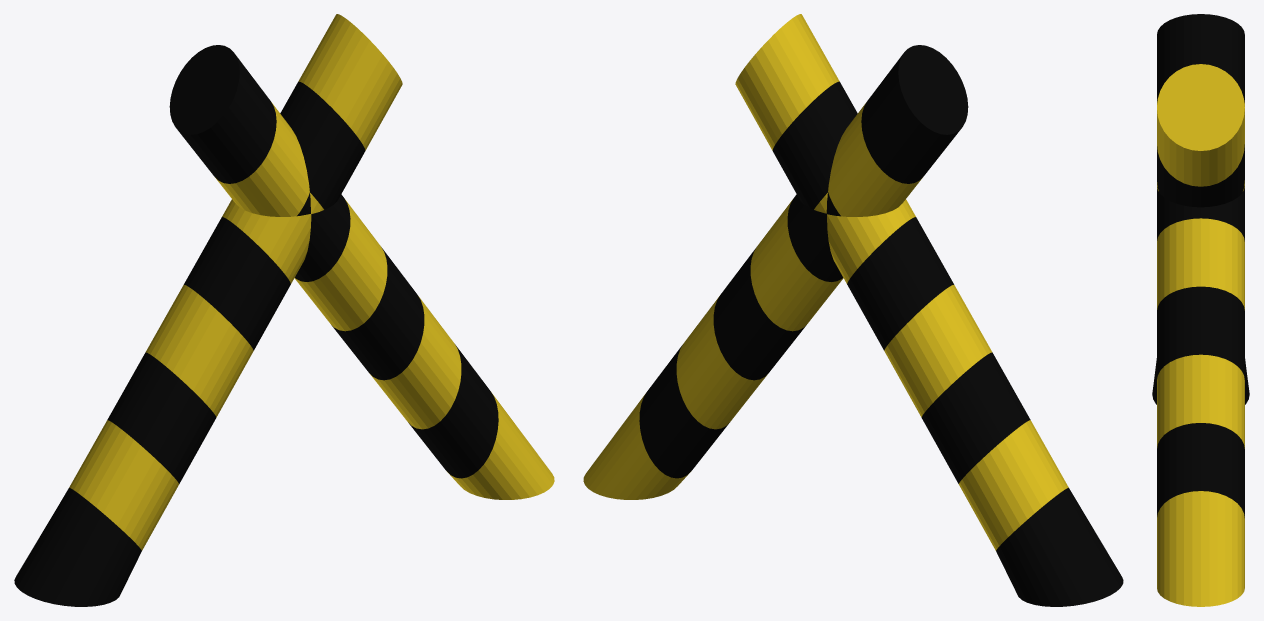
The model's file is Obstacle.fbx.
The picture shows the model from 3 angles, left to right: view 1: azimuth 30°, elevation 25°; view 2: azimuth 150°, elevation 25°; view 3: azimuth 270°, elevation 25°; orthographic projection. The views are drawn at different scales.
Visible parts, largest first — view 1: Cylinder; view 2: Cylinder; view 3: Cylinder.
Boxes of the visible parts, <box> form: Cylinder: <box>14,14,554,606</box>; Cylinder: <box>583,14,1123,606</box>; Cylinder: <box>1152,14,1249,606</box>.
Size of the model in its own units: 1252 by 1151 by 221.
